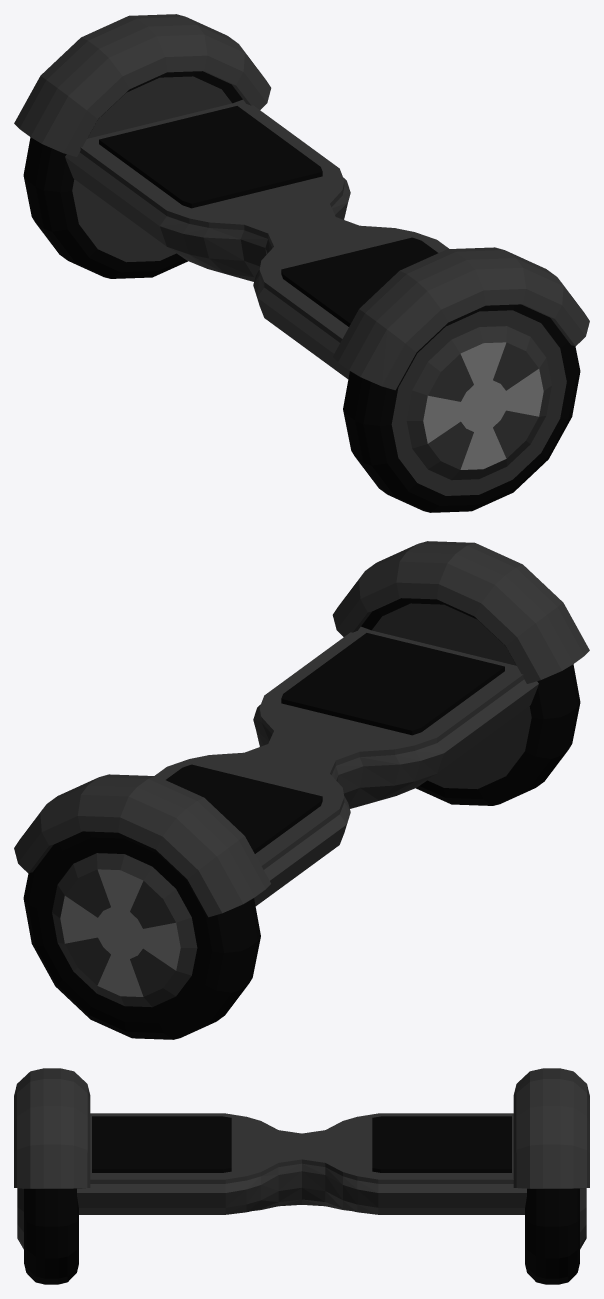
The picture shows the model from 3 angles, top to bottom: view 1: azimuth 30°, elevation 25°; view 2: azimuth 150°, elevation 25°; view 3: azimuth 270°, elevation 25°; orthographic projection. The views are drawn at different scales.
Parts seen in each view (by area): view 1: Hoverboard; view 2: Hoverboard; view 3: Hoverboard.
Part boxes in pixels (x1,y1,x2,y2): Hoverboard: (14,14,589,512); Hoverboard: (14,541,589,1039); Hoverboard: (14,1068,589,1284).
Bounding box in the file's own units: 60.2 × 61.16 × 163.
Materials: 1 (1 with a texture image).
